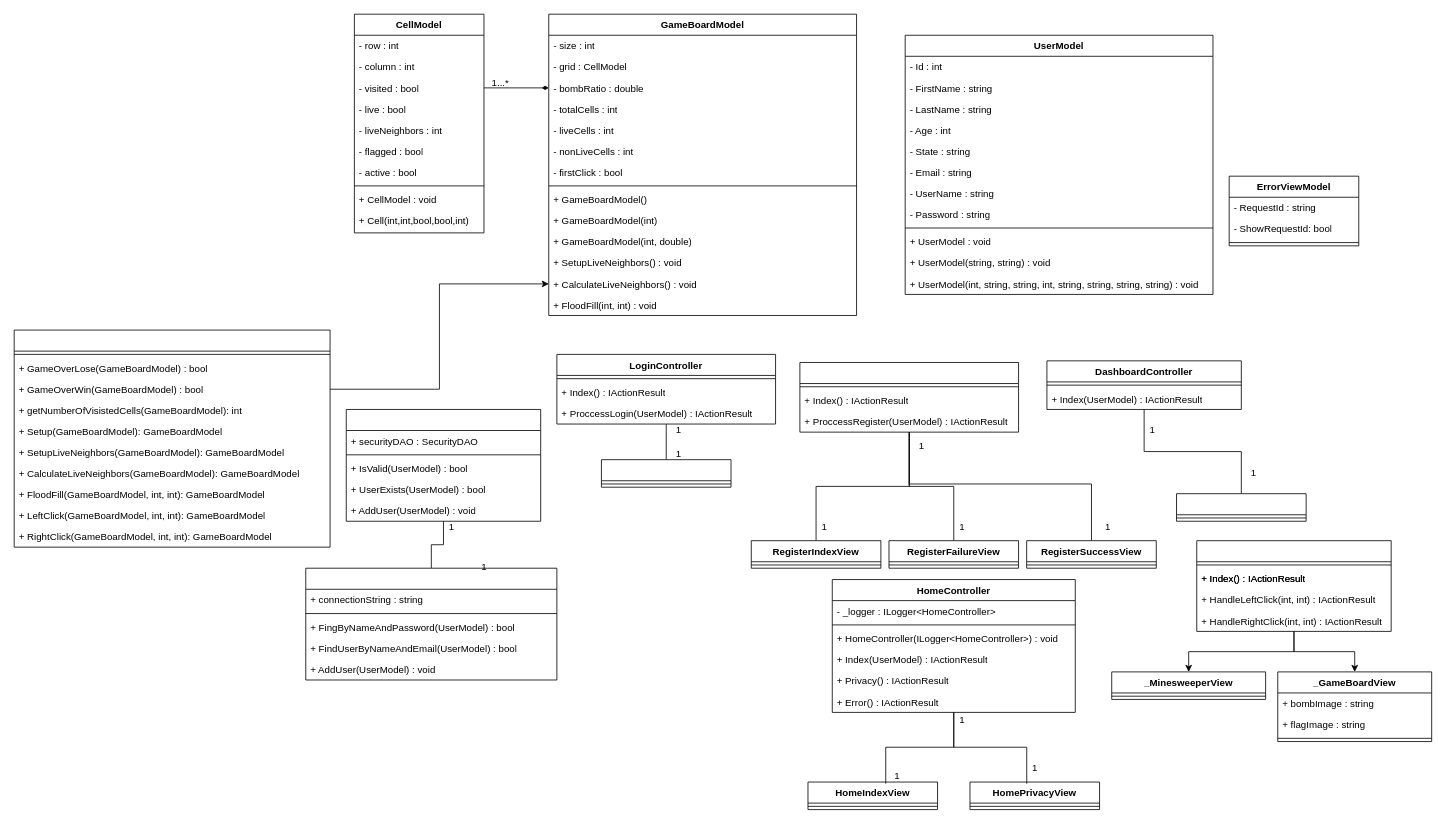
This 1446x824 diagram has some shape labels left out. The shapes that lost their labels are listed below. From the top down, each one's box as (x1, y1, x2, y2) in pixels, then its label:
(799, 362, 1019, 432): RegisterController
(13, 329, 330, 547): GameLogicService
(345, 409, 541, 521): SecurityService
(601, 459, 731, 487): LoginIndexView
(1176, 493, 1306, 521): DashboardIndexView
(1196, 540, 1391, 631): GameController
(305, 567, 557, 680): SecurityDAO
